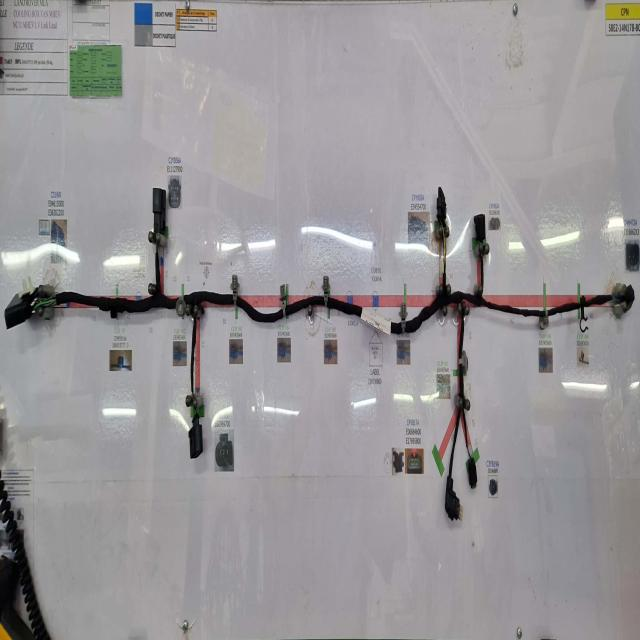Clip: (539, 298, 549, 332), (230, 270, 240, 302), (280, 283, 288, 317), (580, 300, 587, 338), (174, 293, 185, 314), (399, 297, 406, 329), (322, 275, 329, 306), (459, 351, 469, 370), (111, 297, 117, 317)
Connector: (5, 296, 30, 328), (446, 476, 463, 523), (188, 414, 203, 458), (152, 185, 164, 228), (437, 187, 447, 231), (475, 215, 486, 243), (626, 281, 636, 308), (468, 454, 476, 486)
Gape: (32, 292, 54, 312), (609, 291, 622, 311), (442, 235, 447, 282), (190, 395, 198, 420), (155, 240, 163, 260), (466, 440, 472, 460)
Info: (362, 308, 392, 335)
MHEV_N11_Cable: (58, 256, 619, 469)
